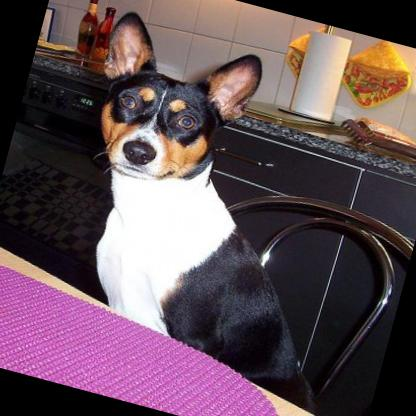basenji: (15, 0, 406, 416)
